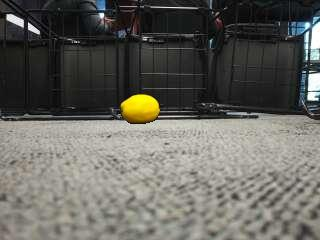lemon: (121, 94, 159, 123)
